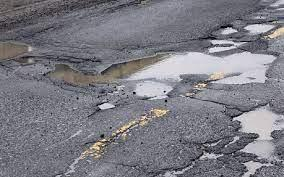crack: (156, 142, 223, 177)
pothole: (48, 48, 282, 97), (225, 98, 284, 177), (0, 39, 35, 61), (241, 21, 278, 35), (216, 23, 239, 38)
